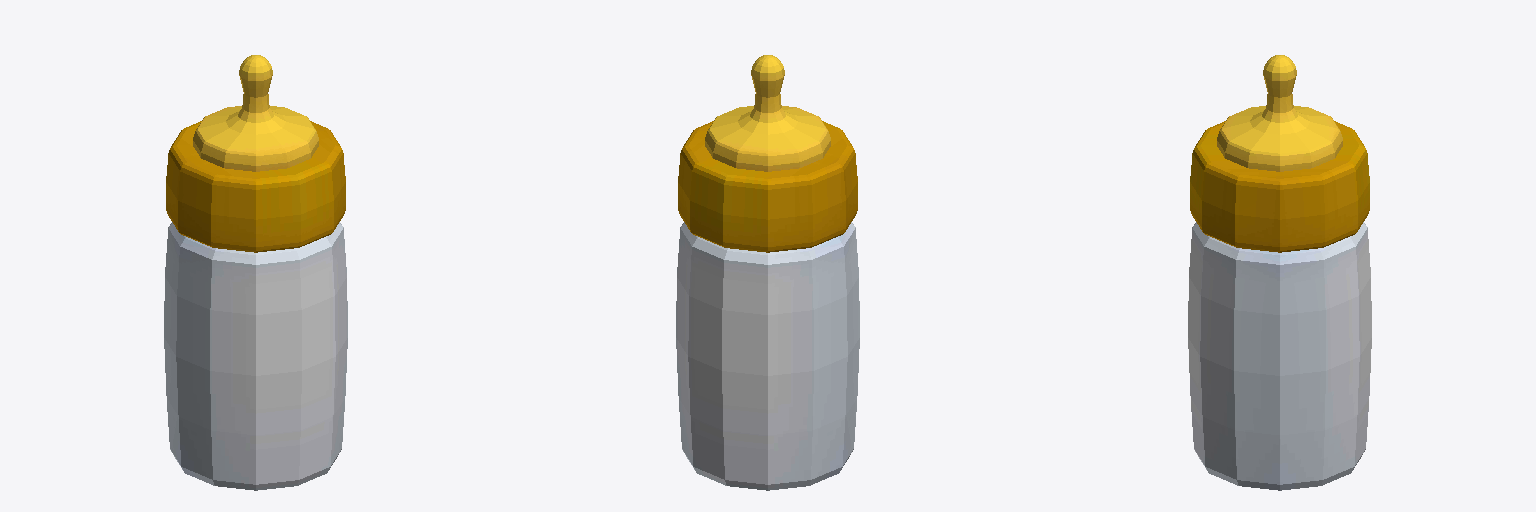
3 renders of one model, left to right at view 1: azimuth 30°, elevation 25°; view 2: azimuth 150°, elevation 25°; view 3: azimuth 270°, elevation 25°, orthographic.
Visible parts, largest first — view 1: polySurface14; view 2: polySurface14; view 3: polySurface14.
Boxes of the visible parts, box(x1,y1,x2,y2) form: polySurface14: box(164, 55, 347, 490); polySurface14: box(676, 55, 859, 490); polySurface14: box(1188, 55, 1371, 490).
Bounding box in the file's own units: 0.2448 × 0.5872 × 0.2448.
1 materials, 1 textured.